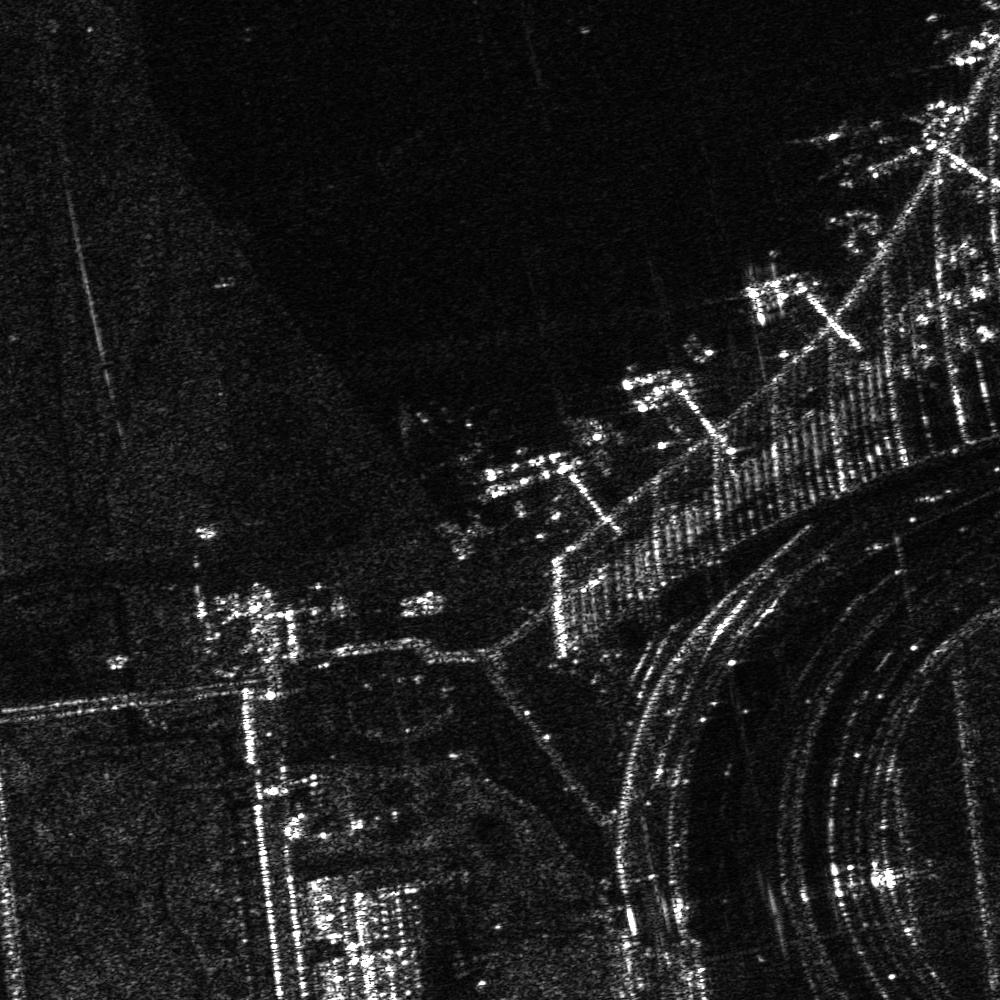A220: (807, 115, 859, 183)
